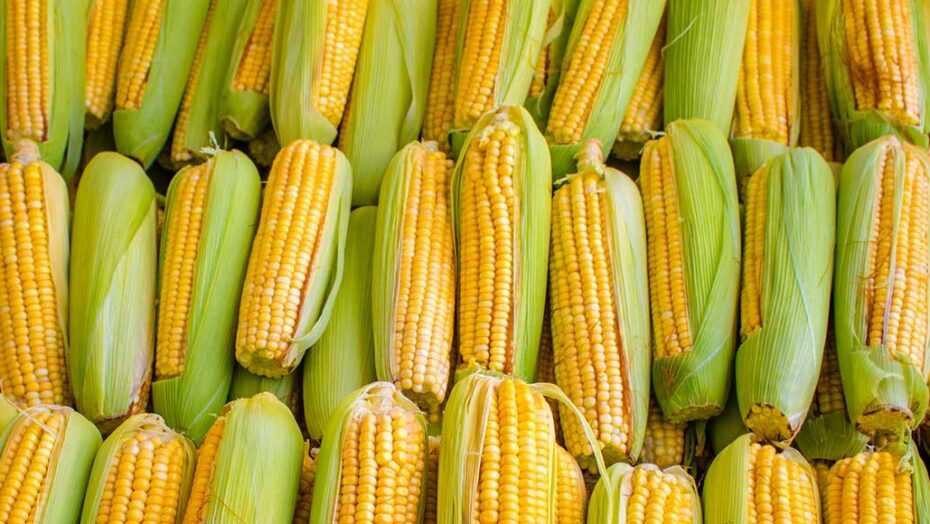milho: (2, 2, 928, 522)
